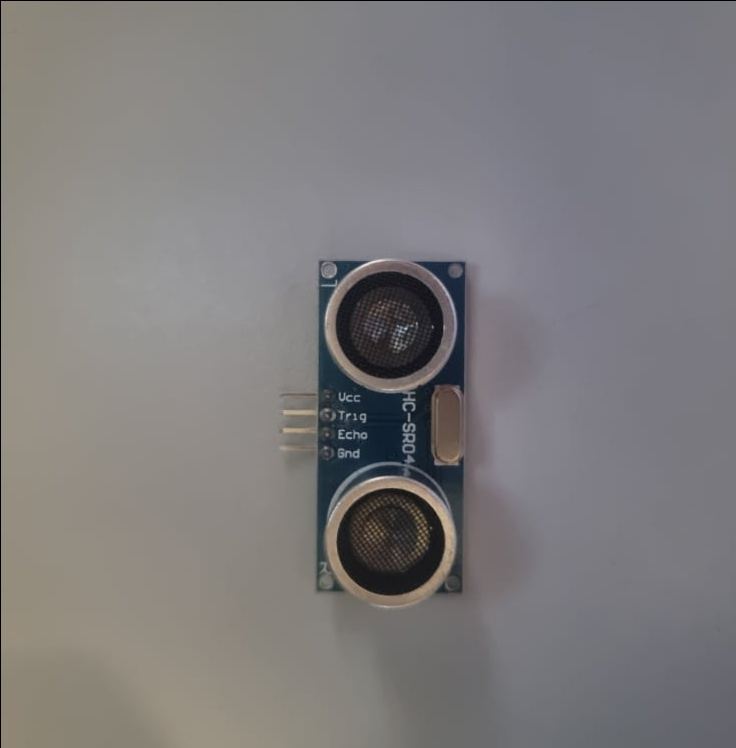SENSOR: (307, 254, 467, 609)
